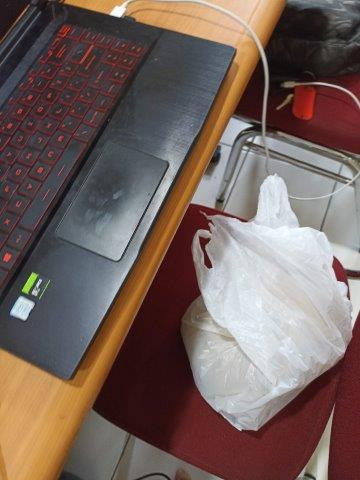plastik: (183, 175, 353, 432)
